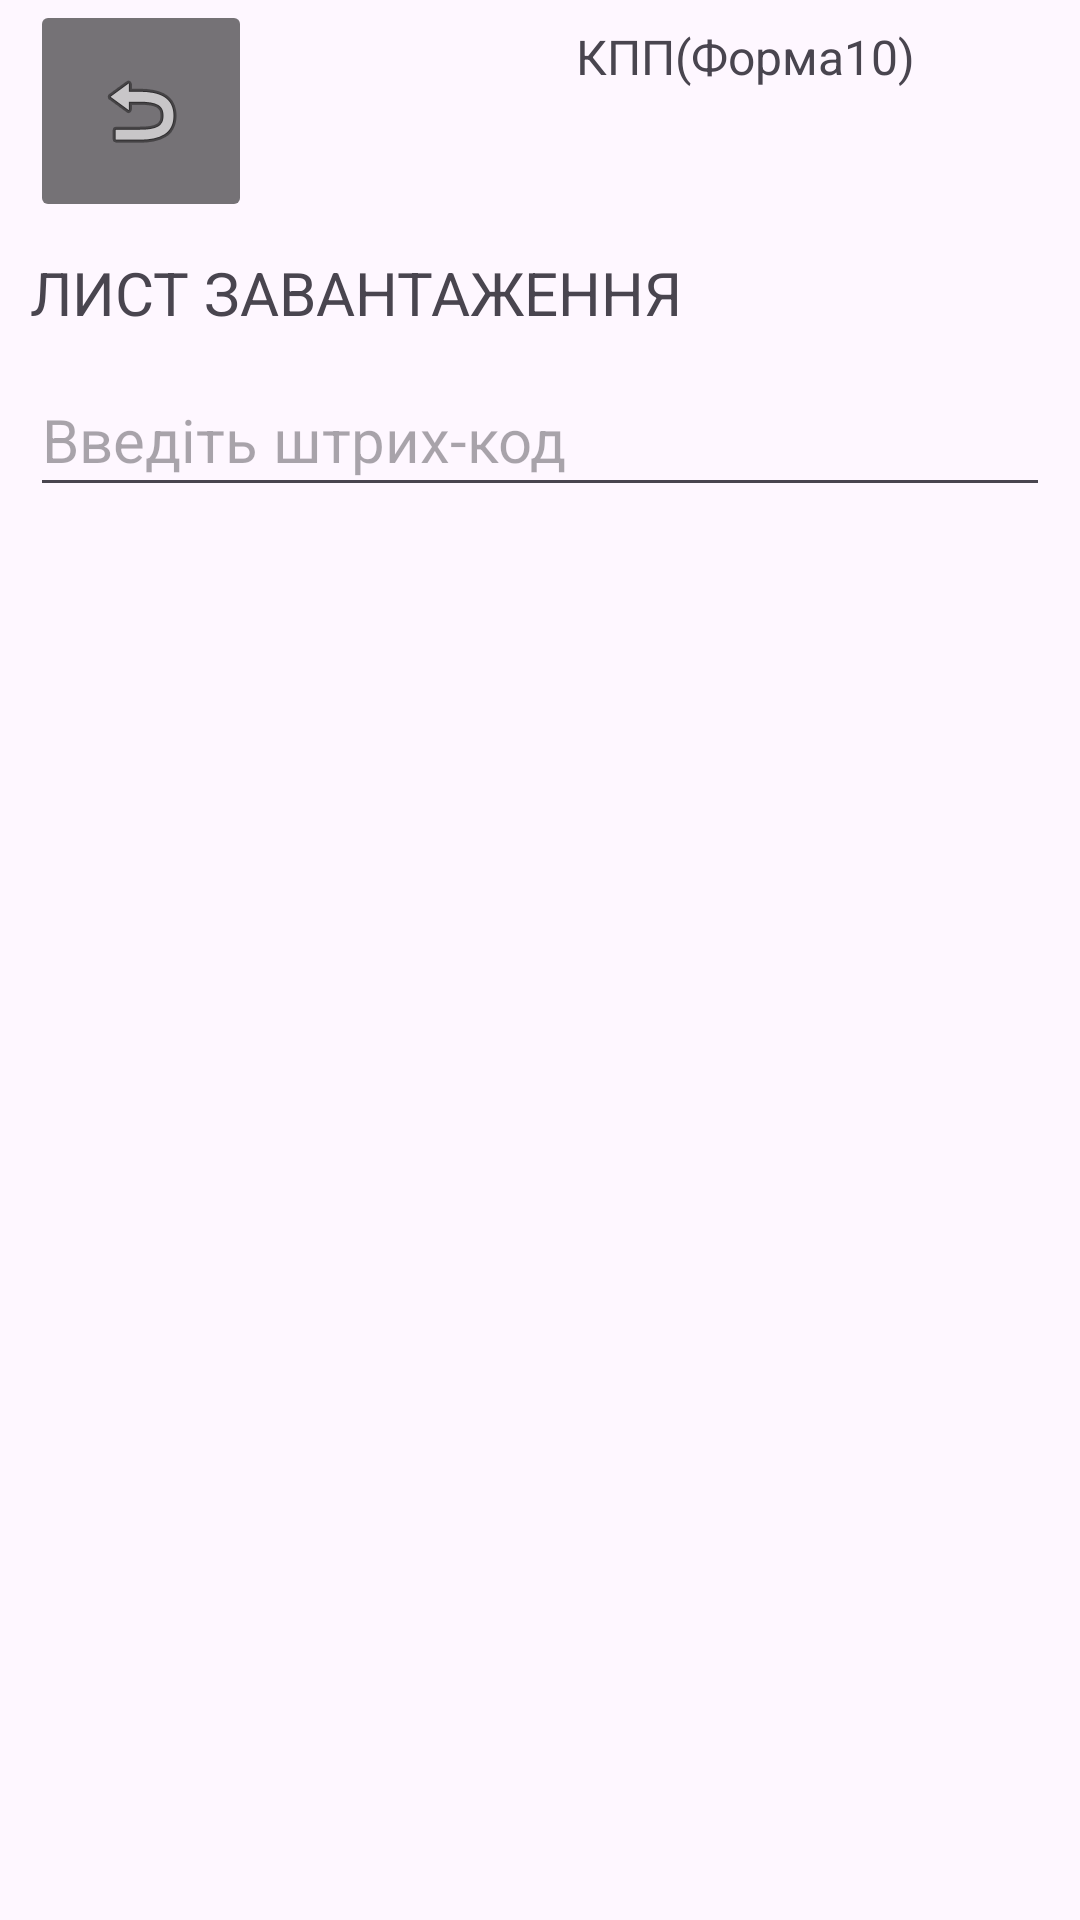

Screen size 1080 × 1920. Icon name, then its center in pixels as (x,y):
На головну: (141,111)
